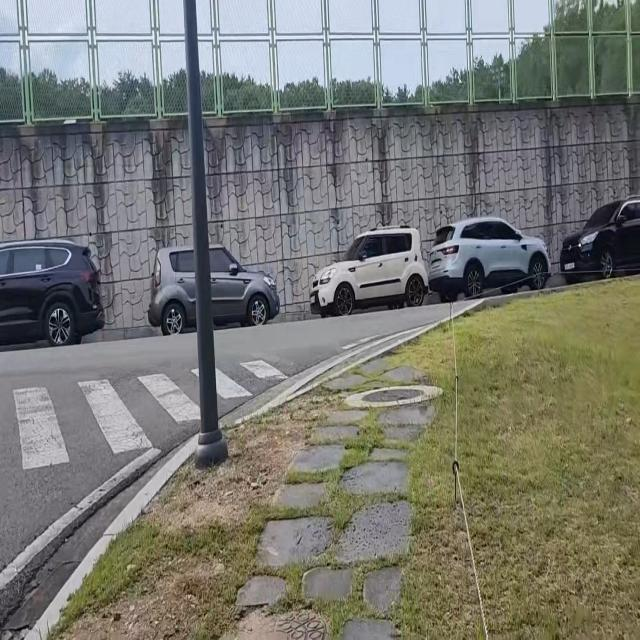obstacle: (181, 0, 234, 466), (555, 181, 640, 283), (450, 458, 461, 507)
road: (0, 302, 478, 640)
